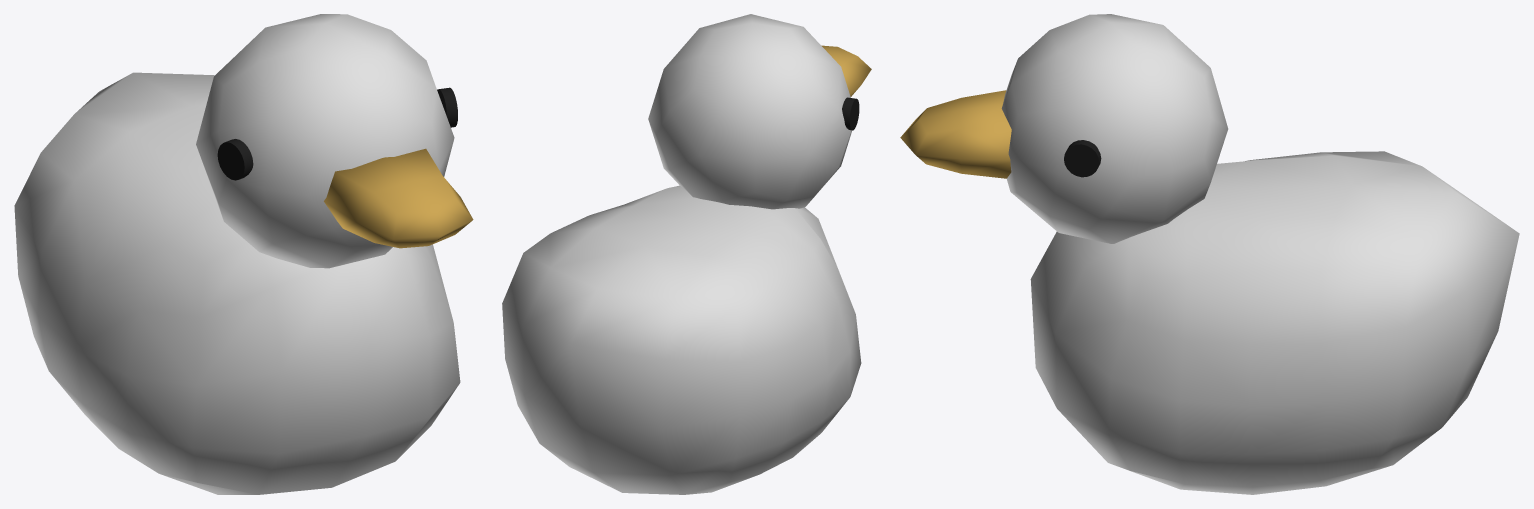
File: Canard.fbx
The picture shows the model from 3 angles, left to right: view 1: azimuth 30°, elevation 25°; view 2: azimuth 150°, elevation 25°; view 3: azimuth 270°, elevation 25°; orthographic projection. The views are drawn at different scales.
Parts seen in each view (by area): view 1: Canard; view 2: Canard; view 3: Canard.
Boxes of the visible parts, x1=… form: Canard: x1=14, y1=14, x2=473, y2=494; Canard: x1=502, y1=14, x2=871, y2=494; Canard: x1=900, y1=14, x2=1519, y2=494.
Bounding box in the file's own units: 19.75 × 27.43 × 34.14.
